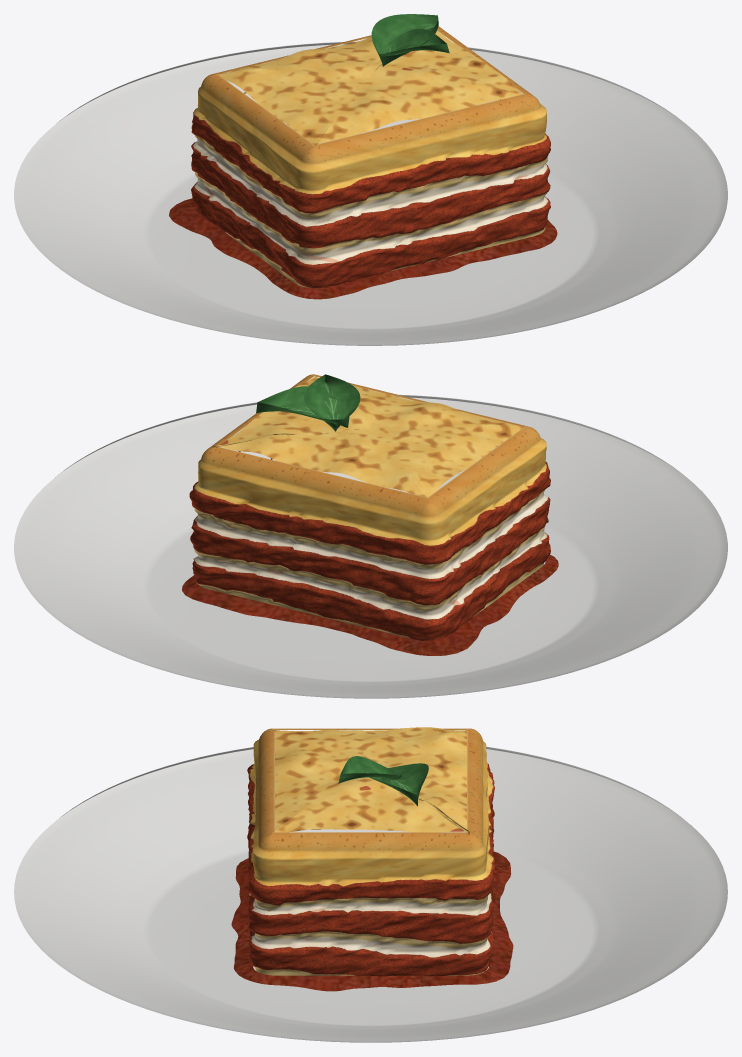
The model's file is lasanha.glb.
3 views of the same model, one above another, from view 1: azimuth 30°, elevation 25°; view 2: azimuth 150°, elevation 25°; view 3: azimuth 270°, elevation 25° (orthographic).
Visible parts, largest first — view 1: lasanha; view 2: lasanha; view 3: lasanha.
Part boxes in pixels (<box>): lasanha: <box>14,14,727,345</box>; lasanha: <box>14,374,727,698</box>; lasanha: <box>14,727,727,1042</box>.
Size of the model in its own units: 0.26 by 0.0756 by 0.26.
5 materials, 4 textured.
